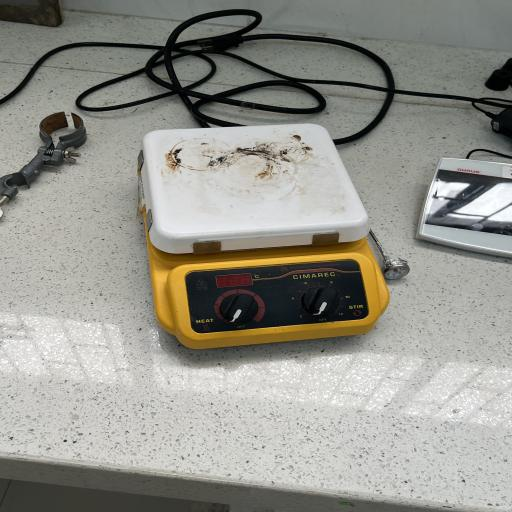Plancha_Agitacion_Cimarec: (125, 113, 391, 366)
